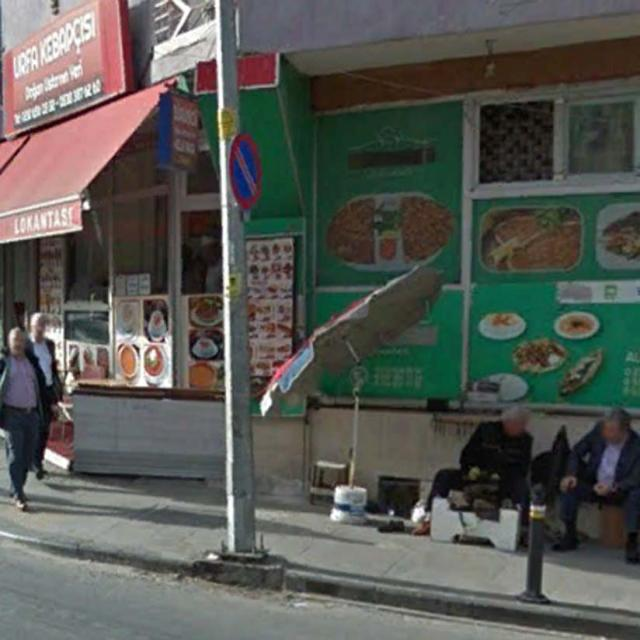parkyasak: (231, 133, 261, 210)
